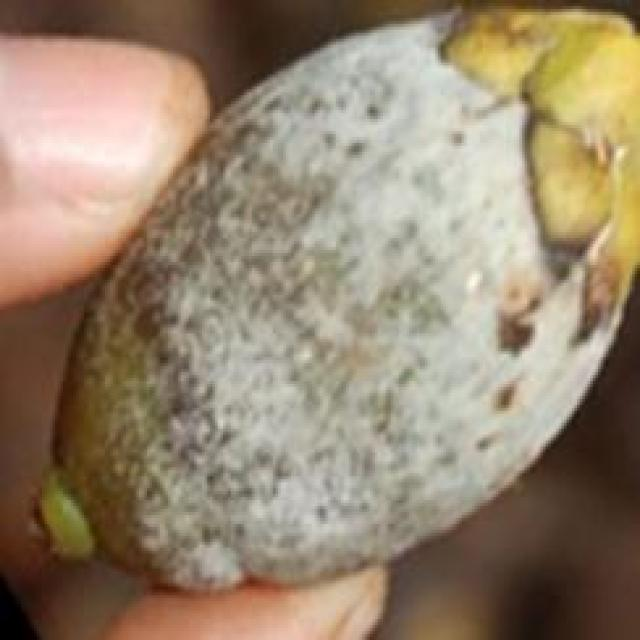damaged: (37, 9, 637, 583)
